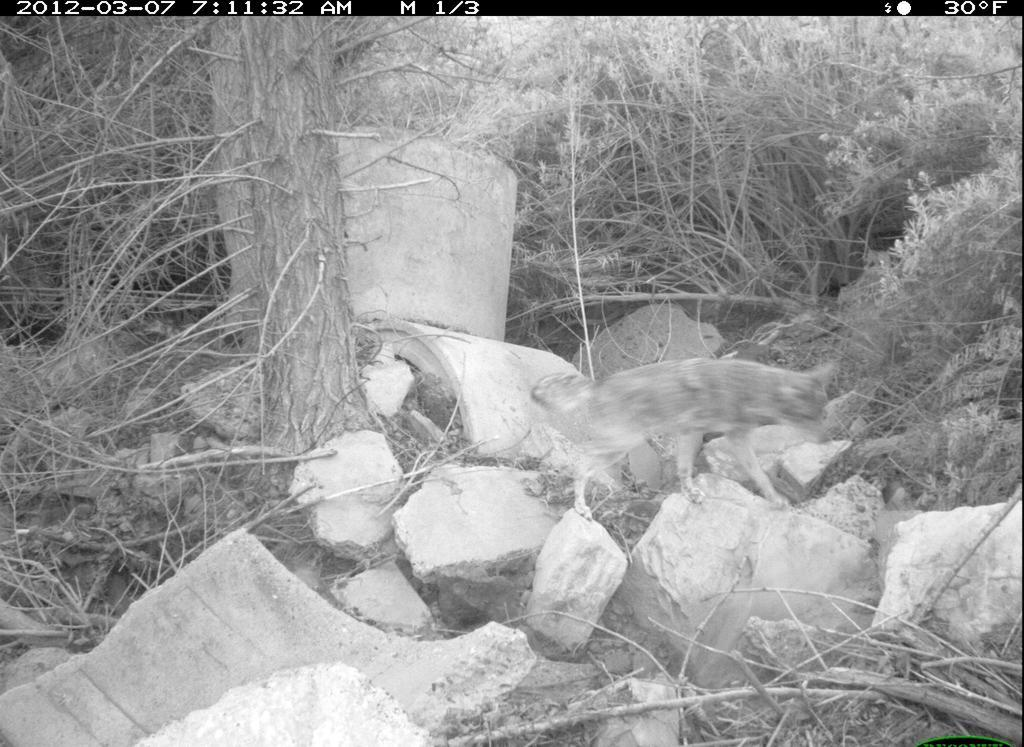coyote: (527, 359, 845, 532)
